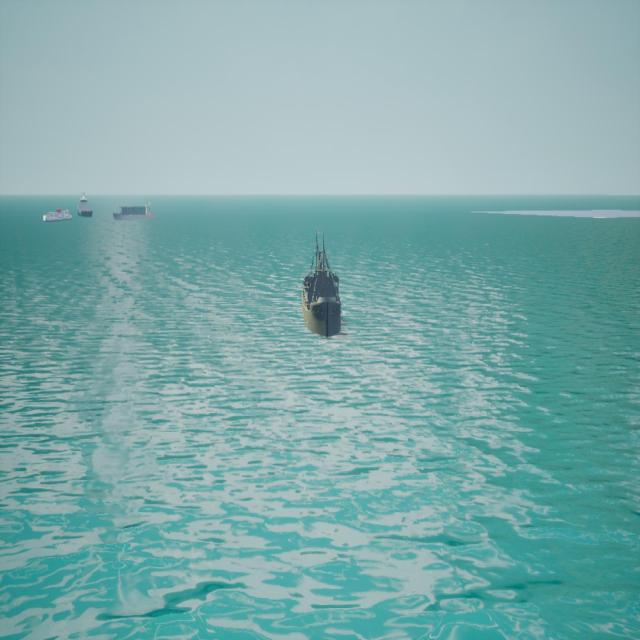fishing ship: (302, 230, 343, 341), (114, 203, 157, 223), (43, 207, 74, 223), (80, 194, 94, 217)
